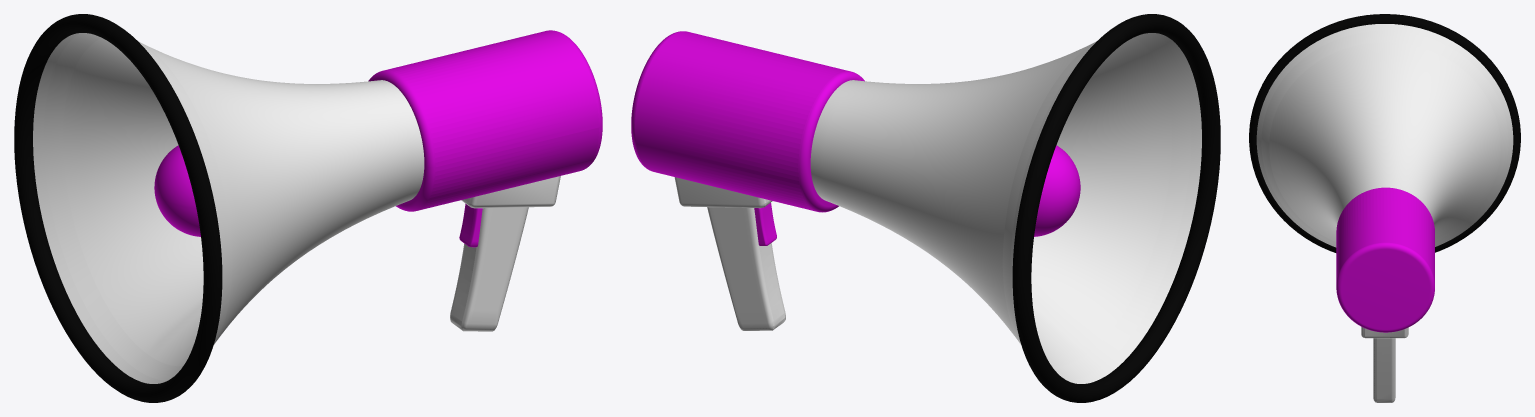
Rendered from megaphone.glb.
3 views of the same model, side by side, from view 1: azimuth 30°, elevation 25°; view 2: azimuth 150°, elevation 25°; view 3: azimuth 270°, elevation 25° (orthographic). The views are drawn at different scales.
Parts seen in each view (by area): view 1: 3DSMeshMatrix (×7); view 2: 3DSMeshMatrix (×7); view 3: 3DSMeshMatrix (×5).
Part boxes in pixels (x1,y1,x2,y2): 3DSMeshMatrix (×7): (14, 14, 602, 402); 3DSMeshMatrix (×7): (631, 14, 1220, 402); 3DSMeshMatrix (×5): (1249, 14, 1520, 402).
Bounding box in the file's own units: 11.04 × 8.92 × 8.26.
